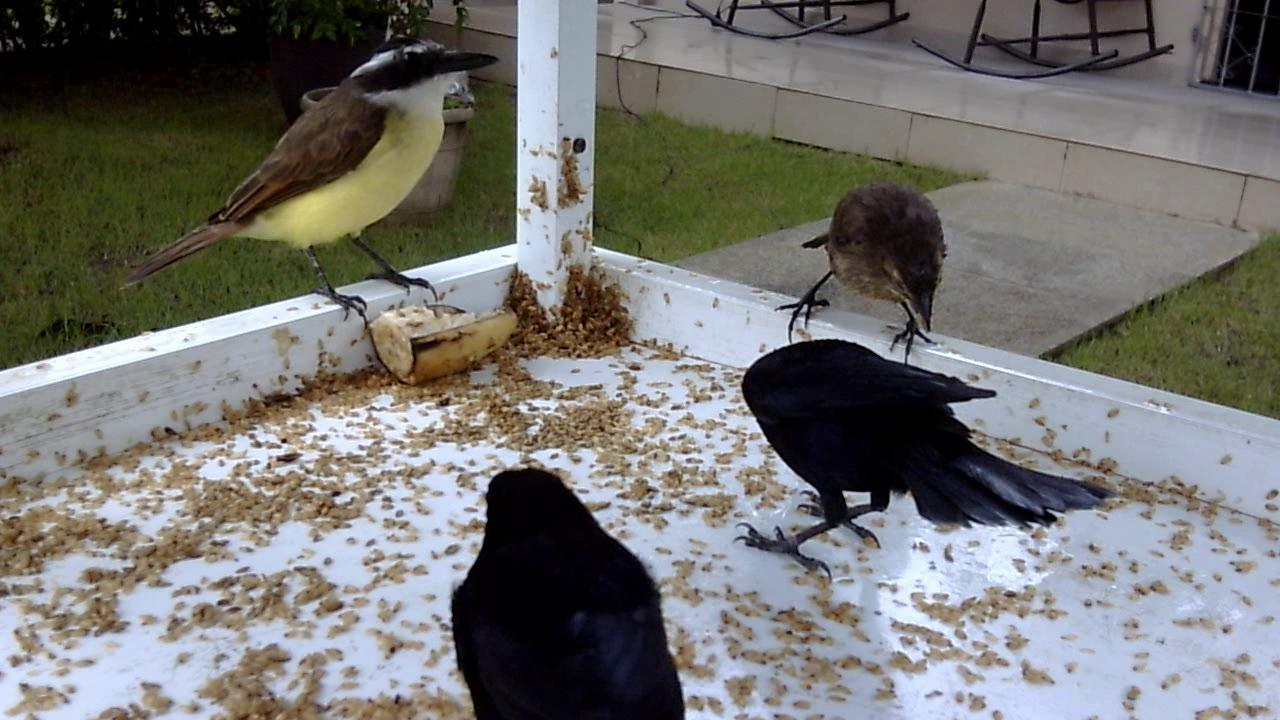bem_te_vi: (107, 36, 501, 341)
chupim: (723, 326, 1119, 568), (441, 460, 690, 713), (764, 171, 964, 376)
